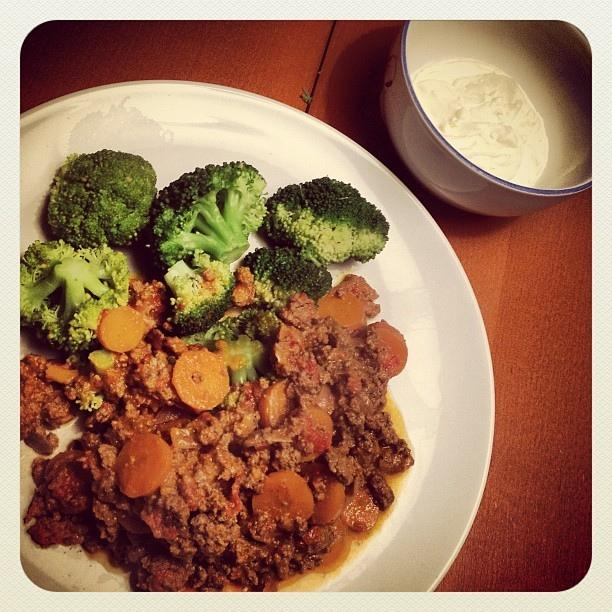broccoli: (147, 162, 269, 272), (20, 240, 130, 354), (262, 176, 390, 268), (47, 149, 158, 252), (243, 246, 332, 312), (163, 260, 236, 338), (224, 335, 268, 386), (230, 309, 280, 350)
carrot: (113, 432, 173, 498), (172, 348, 230, 411), (252, 470, 314, 526), (298, 462, 348, 525), (360, 319, 408, 380), (98, 306, 146, 353), (257, 378, 295, 429), (317, 294, 366, 330), (320, 518, 346, 566), (46, 366, 78, 384)
